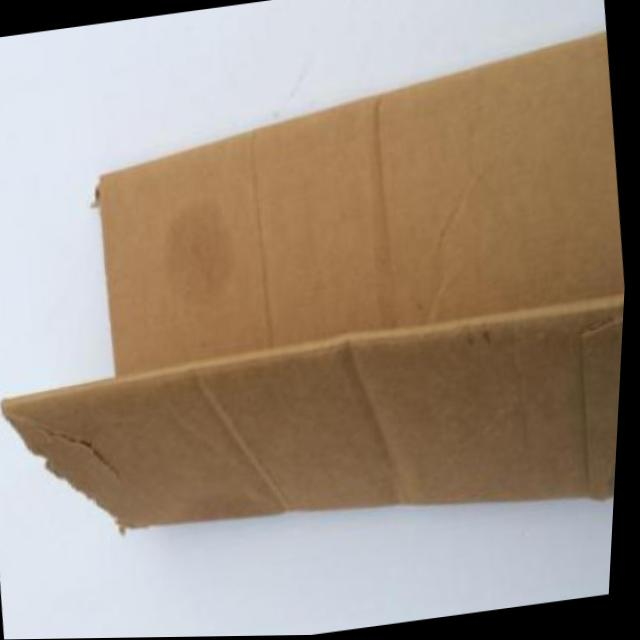box: (0, 13, 639, 596)
